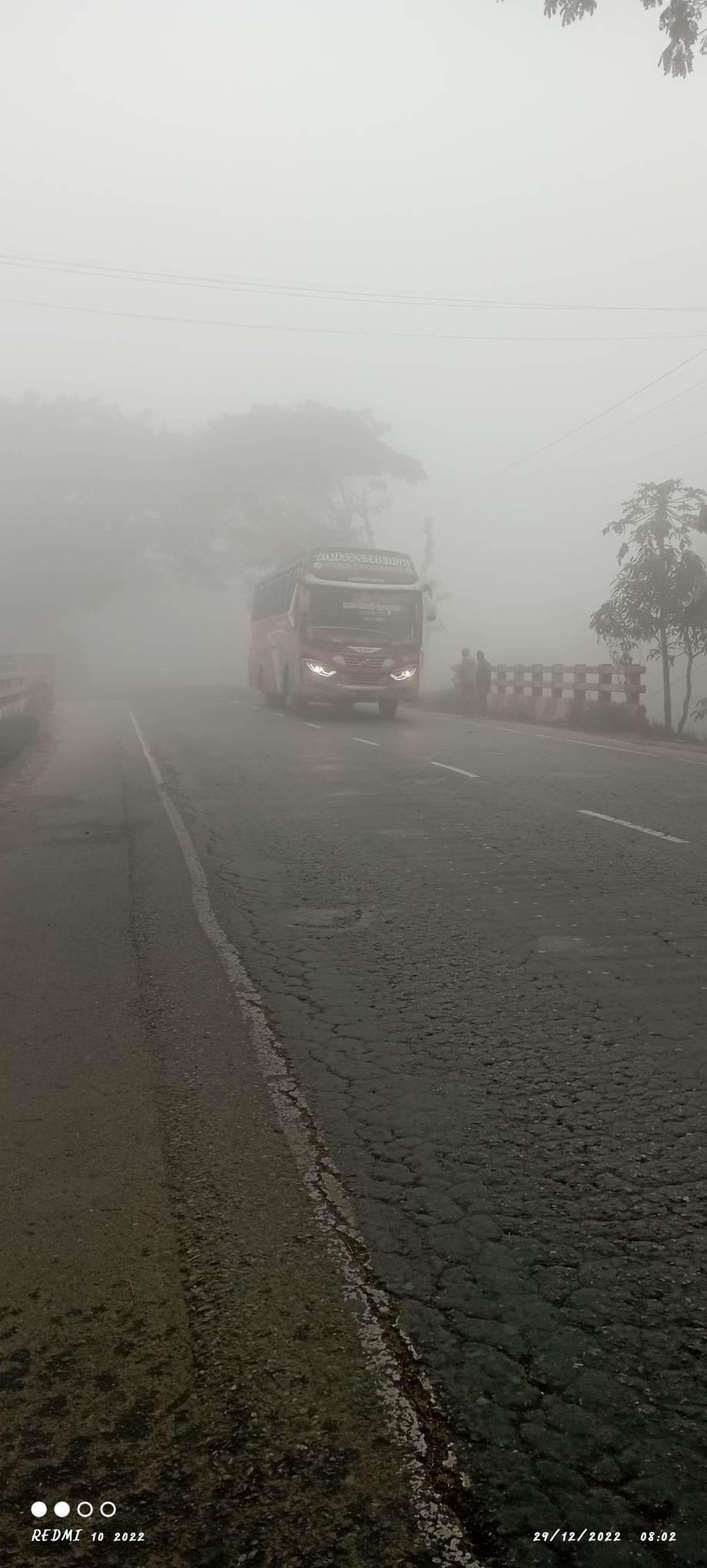Bus: (206, 532, 496, 767)
